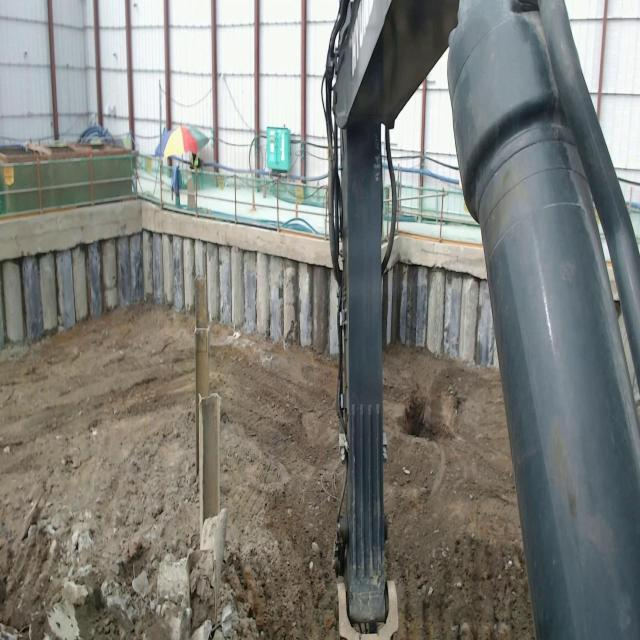red-sand: (0, 305, 199, 639), (385, 345, 533, 639), (211, 325, 342, 639)
